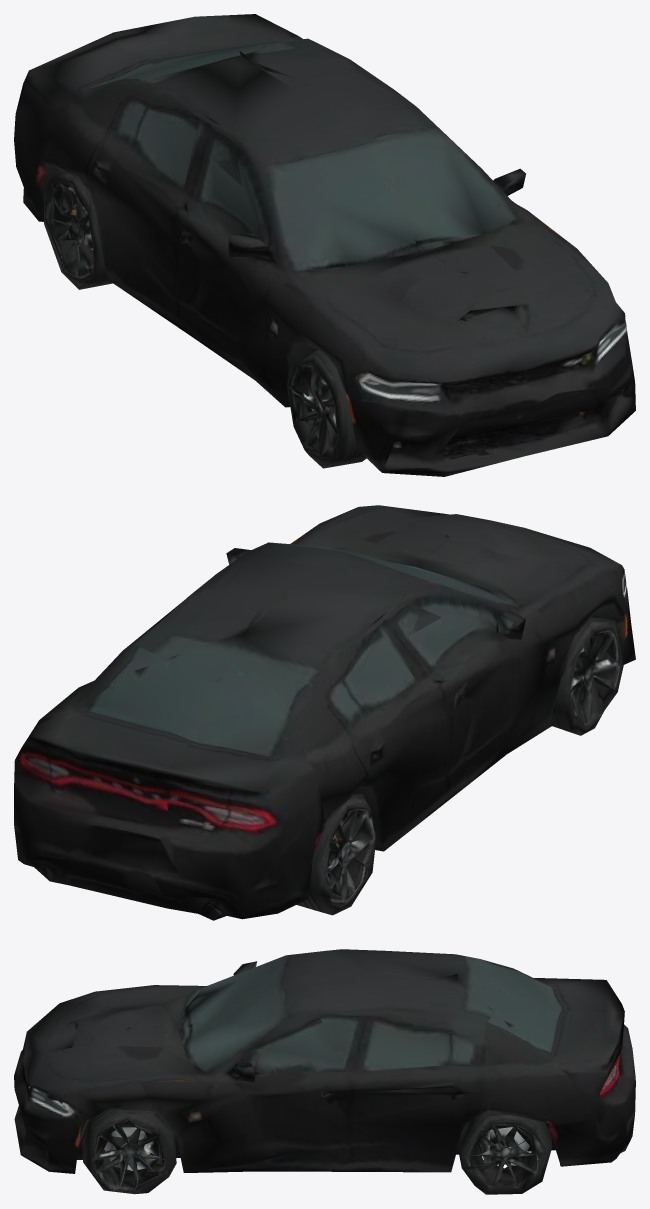
File: muscle_coupe.glb
3 views of the same model, one above another, from view 1: azimuth 30°, elevation 25°; view 2: azimuth 150°, elevation 25°; view 3: azimuth 270°, elevation 25° (orthographic). The views are drawn at different scales.
Visible parts, largest first — view 1: tripo_node_b6ed7db3-be60-4d08-9e2d-8d6b3d7e71a8; view 2: tripo_node_b6ed7db3-be60-4d08-9e2d-8d6b3d7e71a8; view 3: tripo_node_b6ed7db3-be60-4d08-9e2d-8d6b3d7e71a8.
Boxes of the visible parts, x1,y1,x2,y2 form: tripo_node_b6ed7db3-be60-4d08-9e2d-8d6b3d7e71a8: [14, 14, 635, 476]; tripo_node_b6ed7db3-be60-4d08-9e2d-8d6b3d7e71a8: [14, 505, 635, 920]; tripo_node_b6ed7db3-be60-4d08-9e2d-8d6b3d7e71a8: [14, 949, 635, 1194].
Bounding box in the file's own units: 0.4163 × 0.3061 × 1.
1 material, 1 textured.
